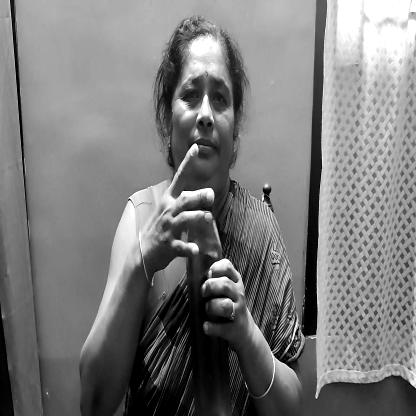Normal: (168, 24, 238, 180)
